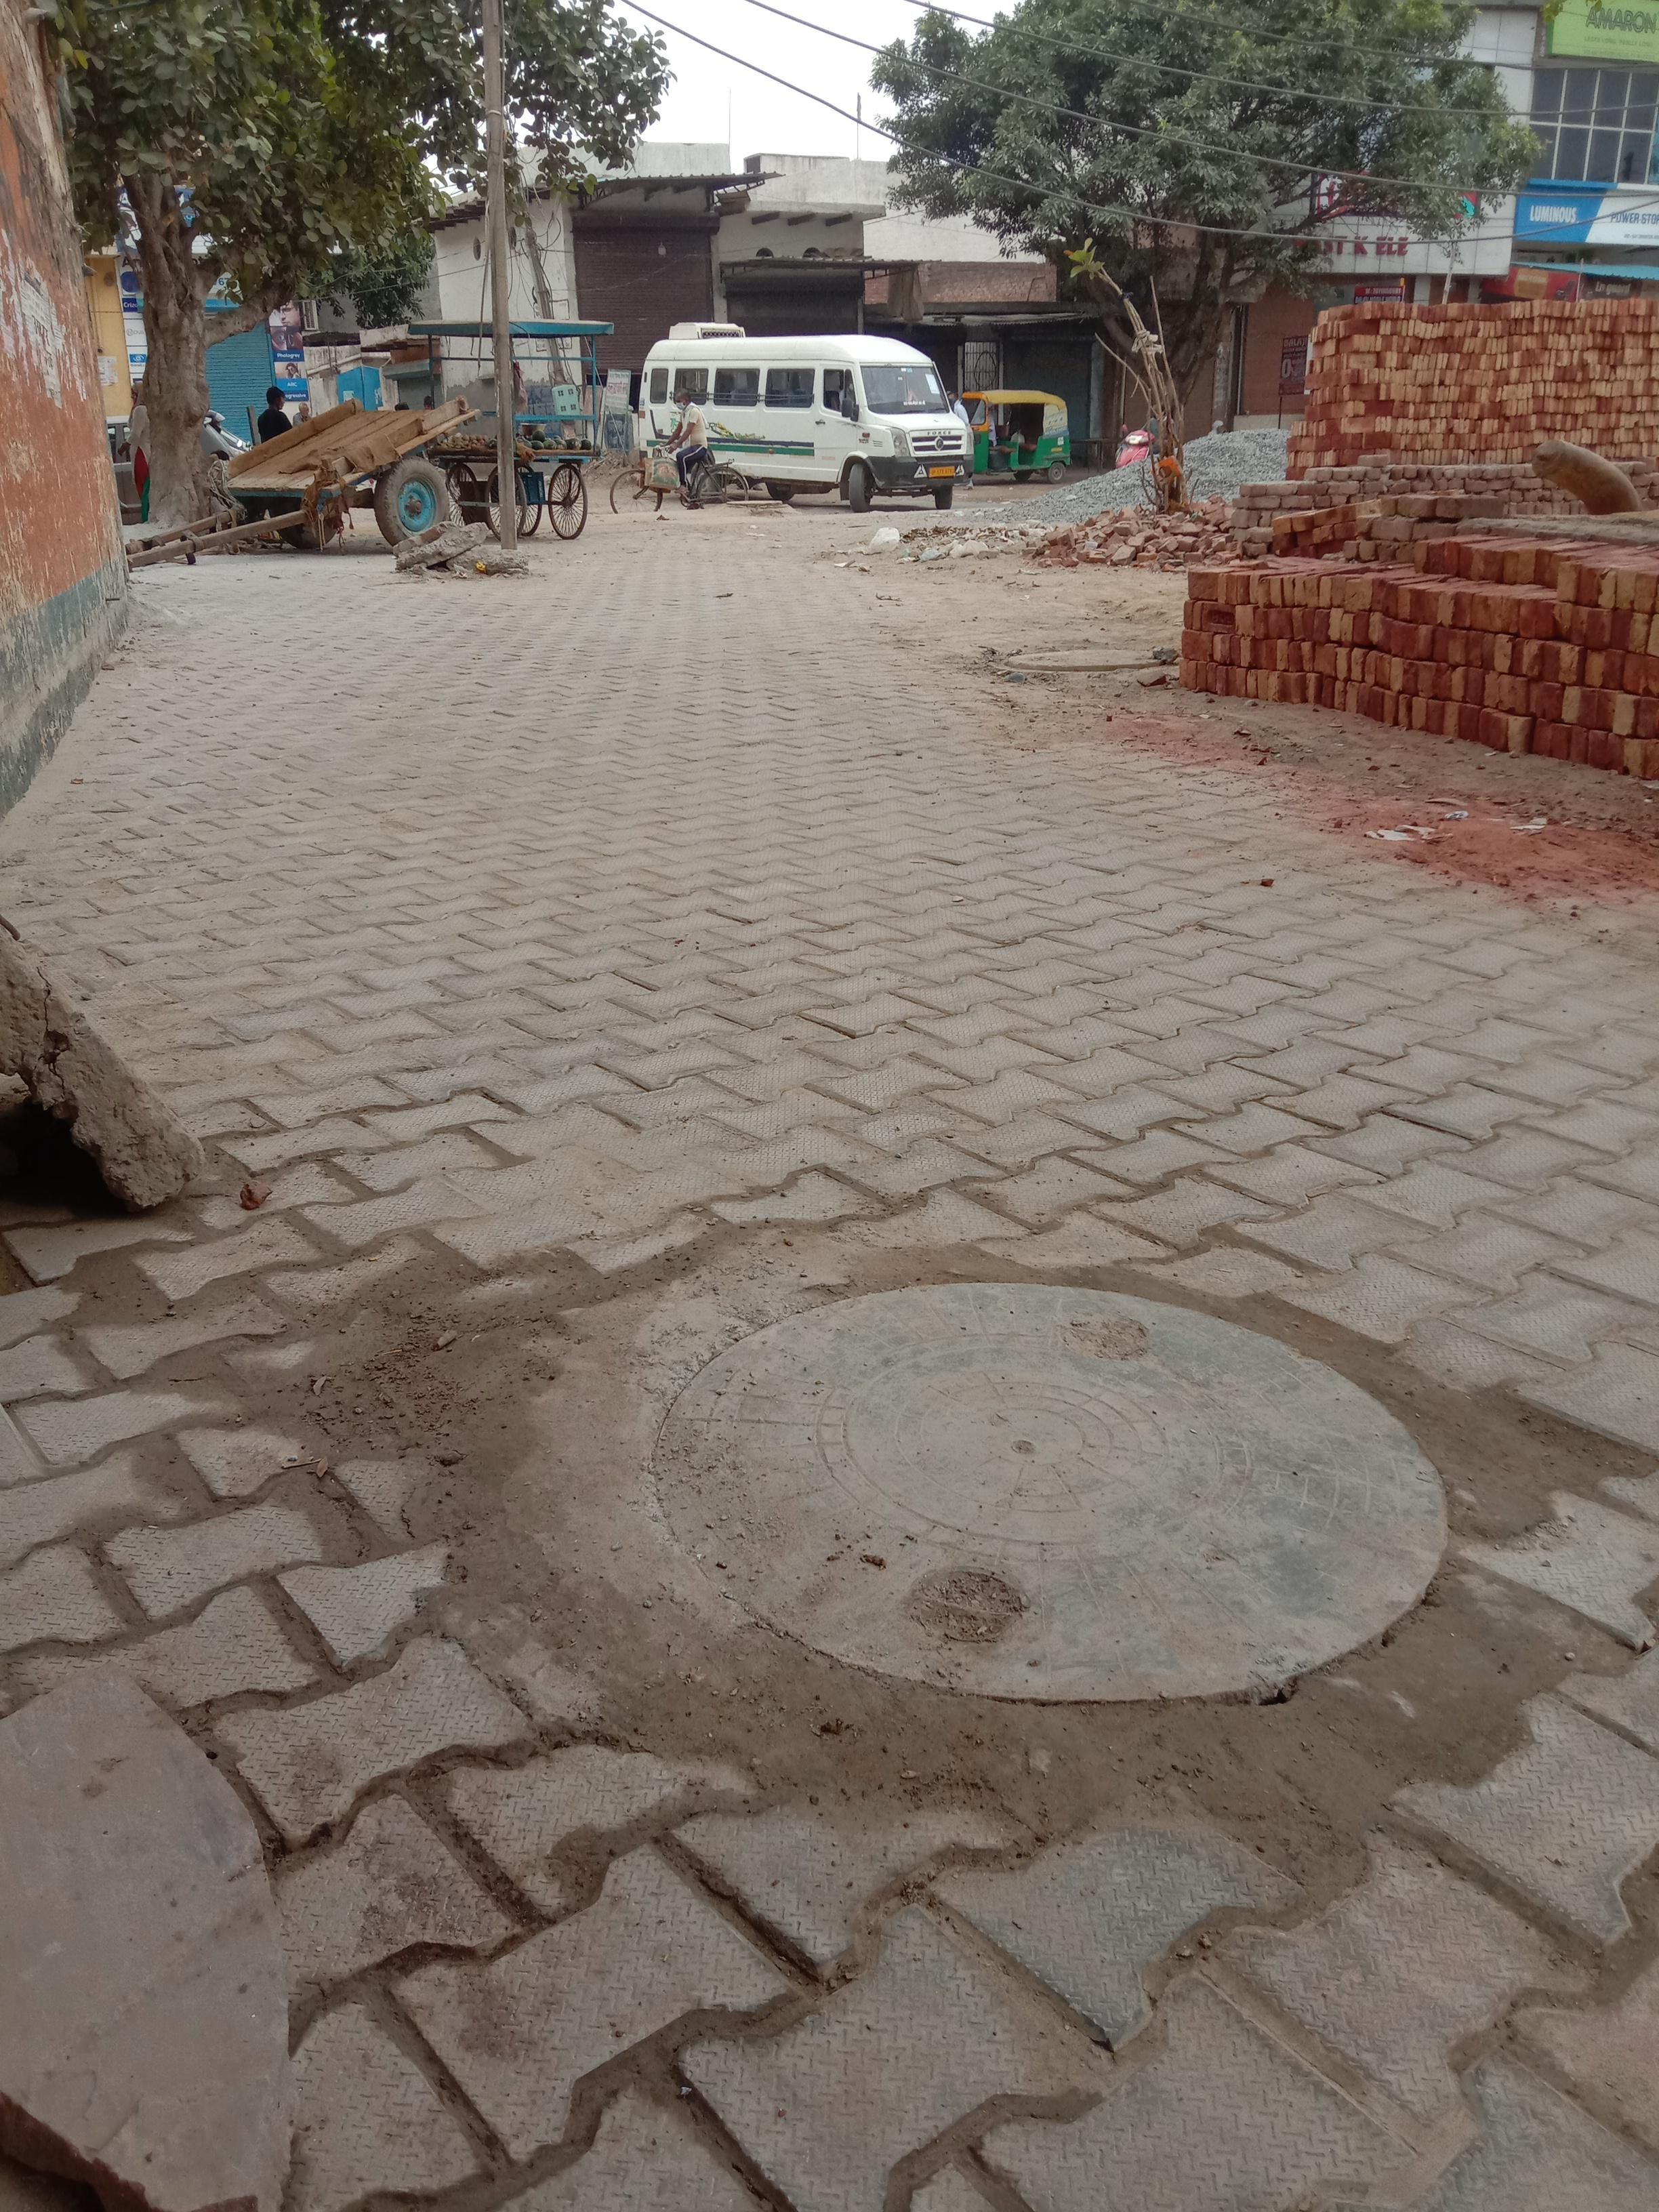Auto: (594, 279, 1006, 526)
